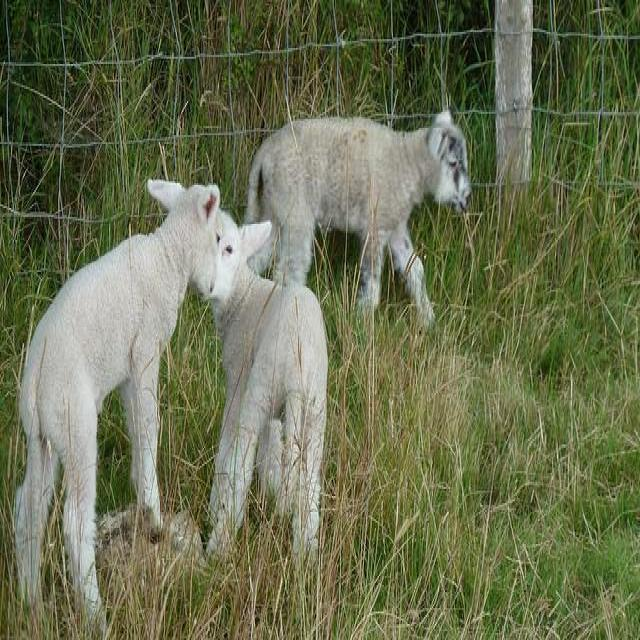Sheep: (19, 178, 237, 636), (247, 116, 475, 320), (206, 224, 330, 562)
